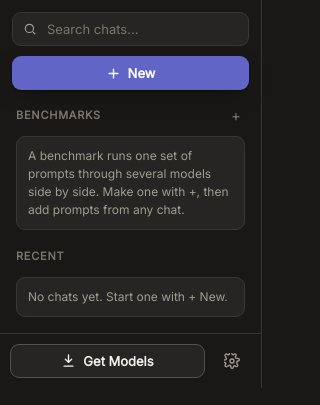
Test: + New › offers both branches, chat first
The image size is (320, 405).
Click the button "New": coordinates (130, 73) [12,56,249,90]
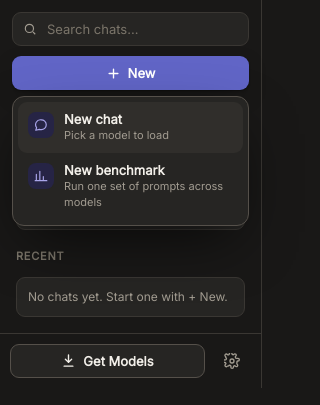
Check: the number of menu items is 2, box [18,102,243,153]; [18,153,243,220]
Check: the menu item "New chat Pick a model to load" is shown, box [18,102,243,153]
Check: the menu item "New benchmark Run one set of prompts across models" is shown, box [18,153,243,220]
